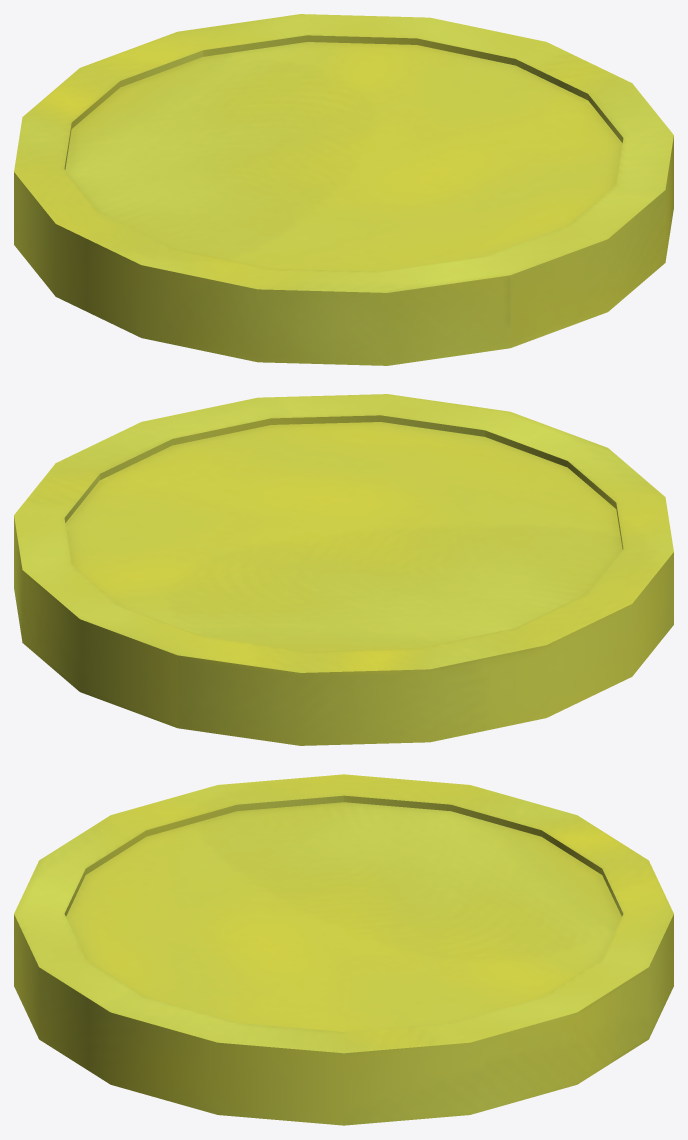
Rendered from Coin.fbx.
3 views of the same model, one above another, from view 1: azimuth 30°, elevation 25°; view 2: azimuth 150°, elevation 25°; view 3: azimuth 270°, elevation 25° (orthographic).
Visible parts, largest first — view 1: Coin; view 2: Coin; view 3: Coin.
Part boxes in pixels (left/top/right/bottom): Coin: left=14, top=14, right=673, bottom=365; Coin: left=14, top=394, right=673, bottom=745; Coin: left=14, top=774, right=673, bottom=1125.
Bounding box in the file's own units: 200 × 24.19 × 200.
